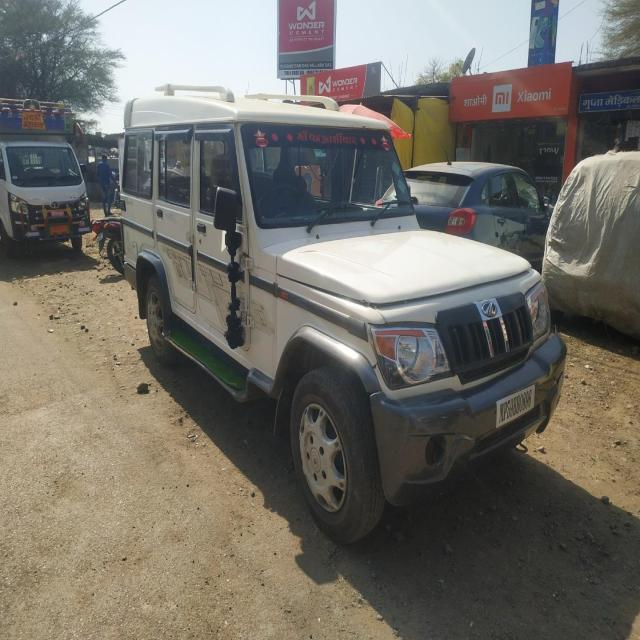light_vehicle: (121, 107, 554, 467)
